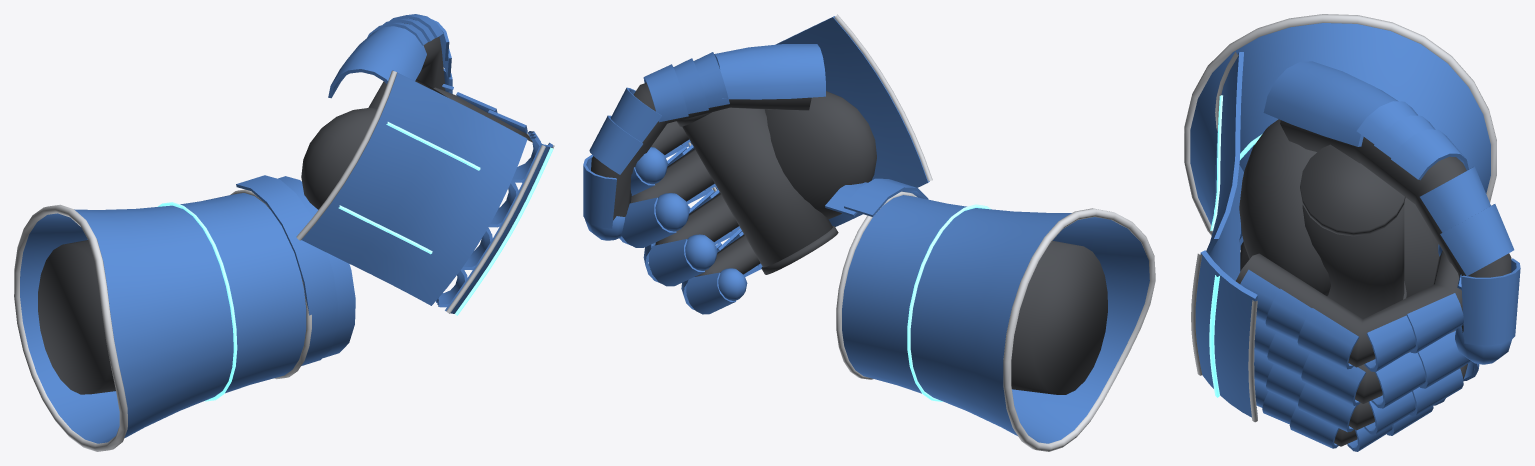
File: P12_gauntlet_2.glb
3 renders of one model, left to right at view 1: azimuth 30°, elevation 25°; view 2: azimuth 150°, elevation 25°; view 3: azimuth 270°, elevation 25°, orthographic. The views are drawn at different scales.
Parts seen in each view (by area): view 1: gauntlet_2; view 2: gauntlet_2; view 3: gauntlet_2.
Boxes of the visible parts, box(x1,y1,x2,y2) form: gauntlet_2: box(14, 14, 554, 451); gauntlet_2: box(583, 14, 1155, 451); gauntlet_2: box(1184, 14, 1520, 451).
Bounding box in the file's own units: 0.2234 × 0.1451 × 0.1059.
